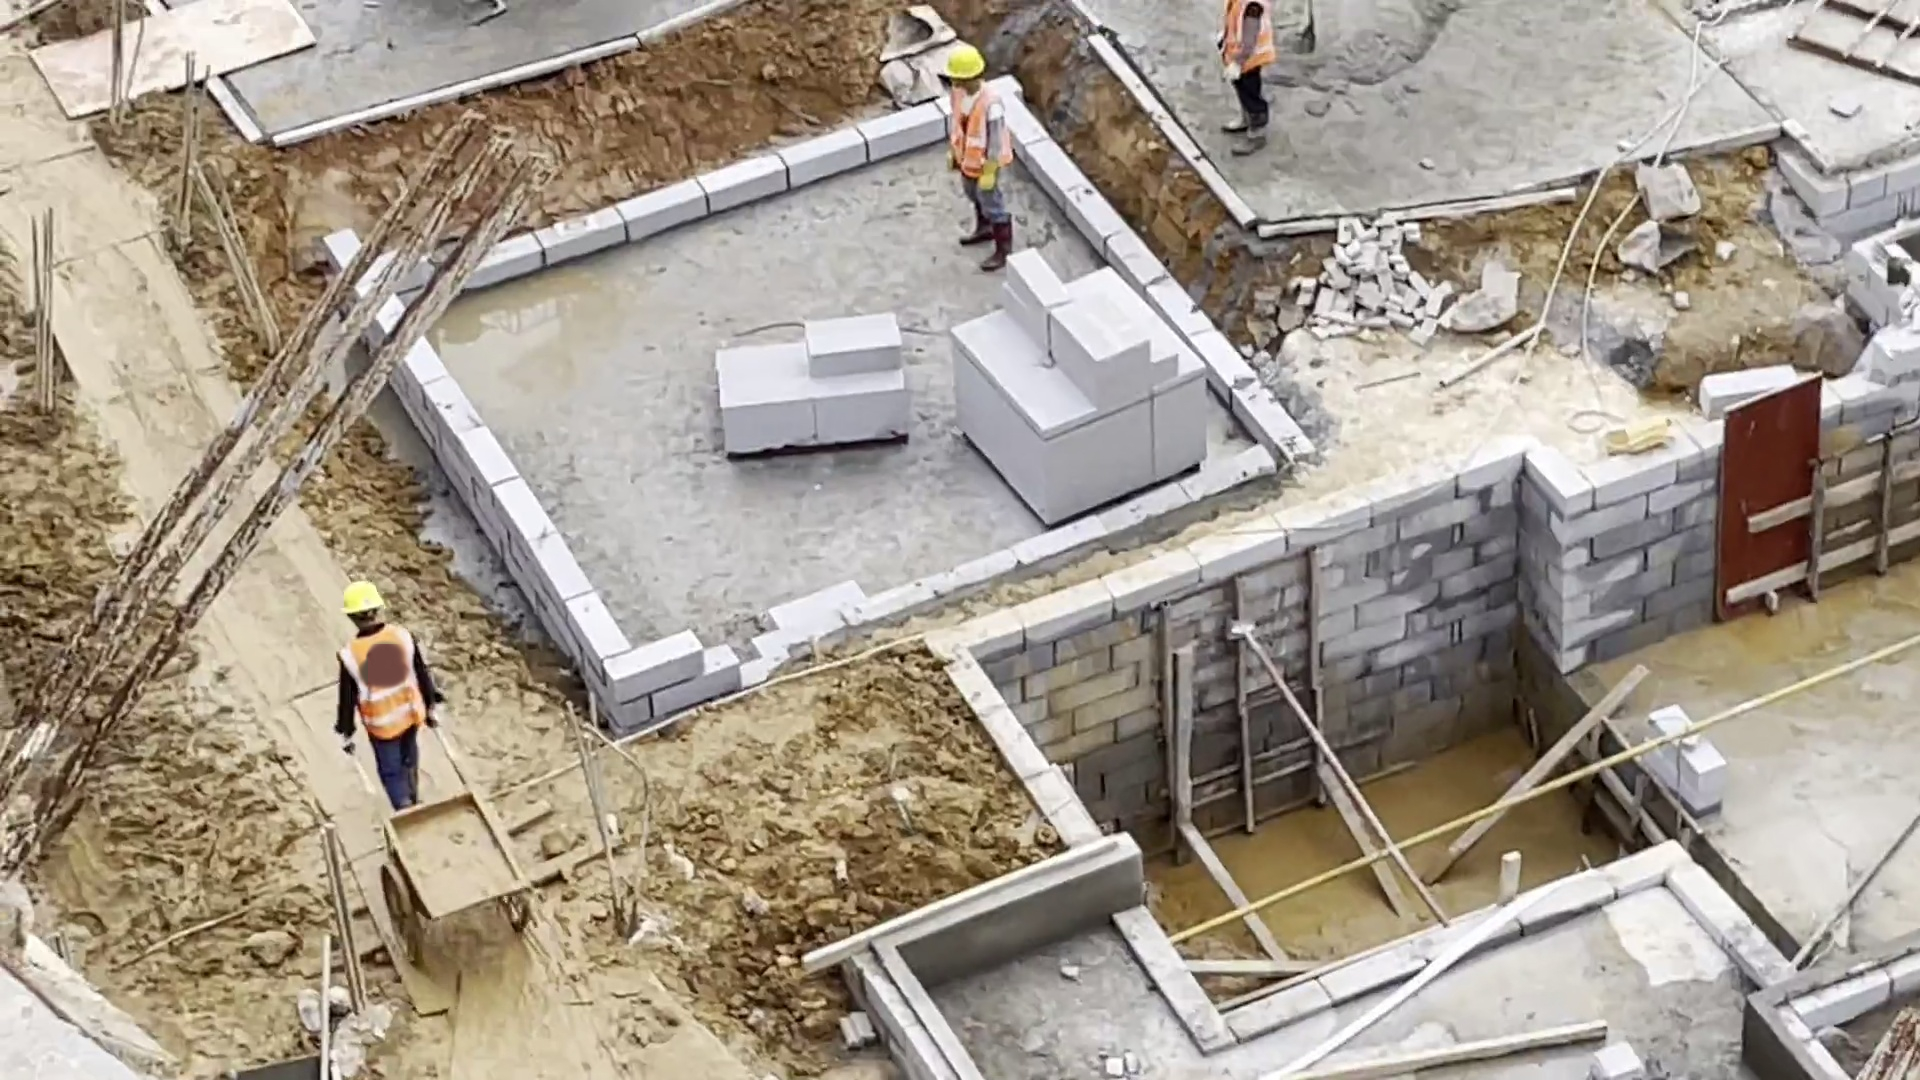brick: (941, 246, 1209, 526), (716, 312, 914, 454)
handcart: (358, 746, 548, 965)
helmet: (340, 578, 389, 620), (945, 39, 989, 80)
person: (330, 579, 445, 809), (933, 39, 1029, 285), (1212, 1, 1286, 156)
vest: (344, 632, 429, 741), (949, 87, 1012, 183), (1219, 1, 1275, 65)
